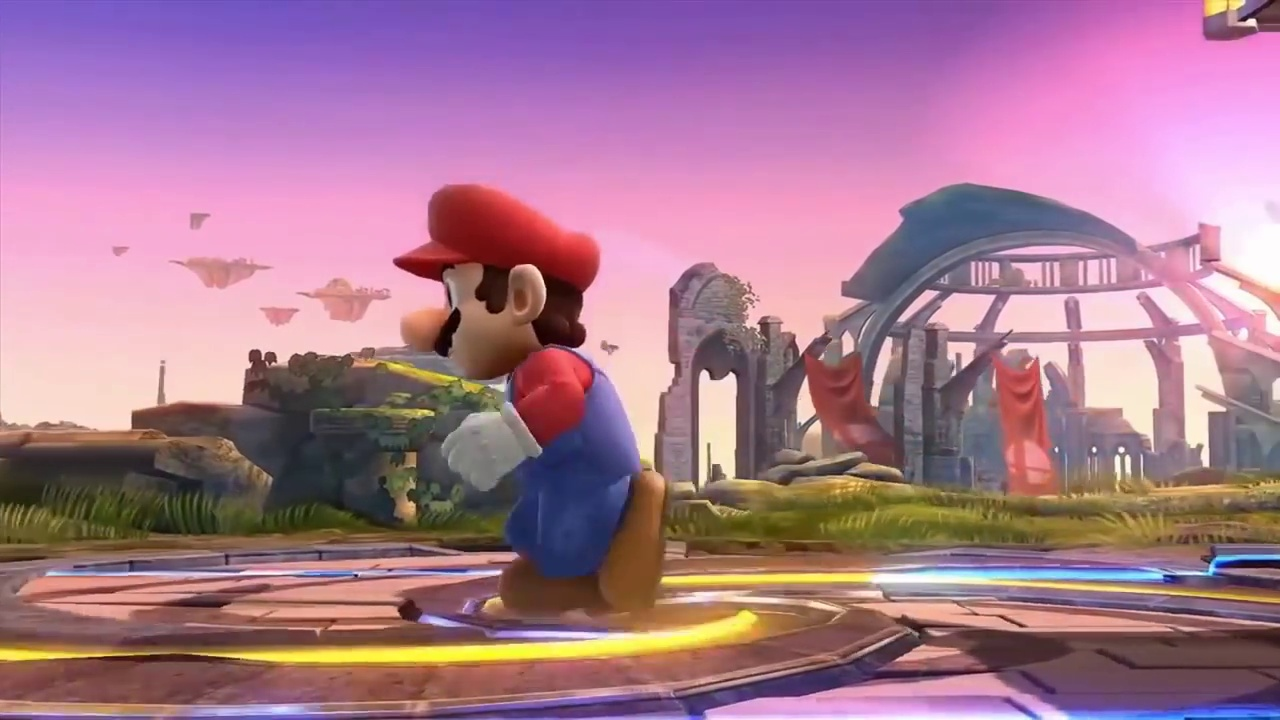Mario: (392, 182, 669, 617)
